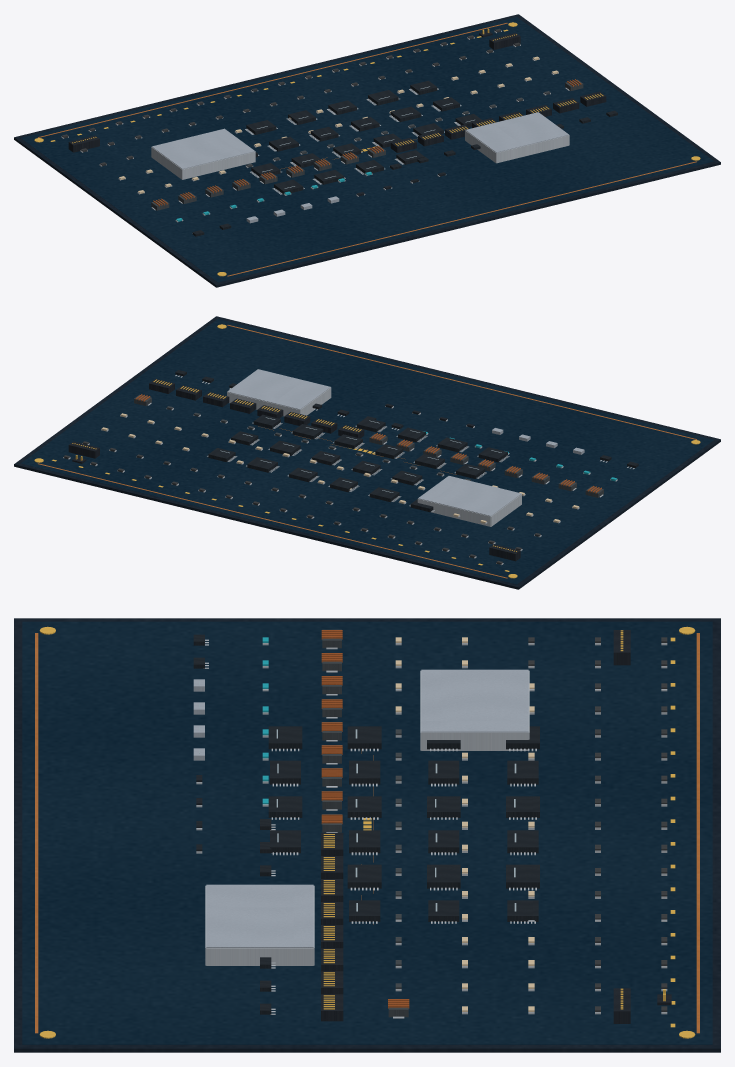
File: 191_L112_AssembledReference.obj
3 renders of one model, top to bottom at view 1: azimuth 30°, elevation 25°; view 2: azimuth 150°, elevation 25°; view 3: azimuth 270°, elevation 25°, orthographic. The views are drawn at different scales.
Parts seen in each view (by area): view 1: Part001__PSMAT__Soldermask_Midnight, Part000__PSMAT__PCB_Graphite, Part899__PSMAT__Aluminum_Brush, Part904__PSMAT__Aluminum_Brush, Part903__PSMAT__Tin_Solder, Part908__PSMAT__Tin_Solder, Part003__PSMAT__Copper_Exposed, Part002__PSMAT__Copper_Exposed; view 2: Part001__PSMAT__Soldermask_Midnight, Part000__PSMAT__PCB_Graphite, Part904__PSMAT__Aluminum_Brush, Part899__PSMAT__Aluminum_Brush, Part002__PSMAT__Copper_Exposed, Part003__PSMAT__Copper_Exposed, Part907__PSMAT__Tin_Solder; view 3: Part001__PSMAT__Soldermask_Midnight, Part000__PSMAT__PCB_Graphite, Part899__PSMAT__Aluminum_Brush, Part904__PSMAT__Aluminum_Brush, Part901__PSMAT__Tin_Solder, Part002__PSMAT__Copper_Exposed, Part003__PSMAT__Copper_Exposed, Part906__PSMAT__Tin_Solder, Part314__PSMAT__IC_Epoxy, Part206__PSMAT__IC_Epoxy, Part098__PSMAT__IC_Epoxy, Part242__PSMAT__IC_Epoxy (+16 smaller).
Part boxes in pixels (x1,y1,x2,y2): Part001__PSMAT__Soldermask_Midnight: [21, 17, 713, 282]; Part000__PSMAT__PCB_Graphite: [14, 14, 720, 287]; Part899__PSMAT__Aluminum_Brush: [465, 112, 568, 152]; Part904__PSMAT__Aluminum_Brush: [151, 128, 255, 169]; Part903__PSMAT__Tin_Solder: [496, 135, 569, 163]; Part908__PSMAT__Tin_Solder: [182, 151, 255, 179]; Part003__PSMAT__Copper_Exposed: [227, 161, 696, 276]; Part002__PSMAT__Copper_Exposed: [38, 23, 507, 137]; Part001__PSMAT__Soldermask_Midnight: [21, 319, 713, 584]; Part000__PSMAT__PCB_Graphite: [14, 316, 720, 589]; Part904__PSMAT__Aluminum_Brush: [418, 476, 521, 516]; Part899__PSMAT__Aluminum_Brush: [227, 369, 330, 409]; Part002__PSMAT__Copper_Exposed: [38, 463, 507, 578]; Part003__PSMAT__Copper_Exposed: [227, 325, 696, 439]; Part907__PSMAT__Tin_Solder: [418, 499, 490, 526]; Part001__PSMAT__Soldermask_Midnight: [22, 621, 712, 1044]; Part000__PSMAT__PCB_Graphite: [14, 618, 720, 1052]; Part899__PSMAT__Aluminum_Brush: [206, 884, 313, 947]; Part904__PSMAT__Aluminum_Brush: [421, 669, 528, 732]; Part901__PSMAT__Tin_Solder: [206, 948, 313, 965]; Part002__PSMAT__Copper_Exposed: [696, 633, 699, 1033]; Part003__PSMAT__Copper_Exposed: [35, 633, 38, 1033]; Part906__PSMAT__Tin_Solder: [421, 732, 528, 750]; Part314__PSMAT__IC_Epoxy: [347, 864, 381, 888]; Part206__PSMAT__IC_Epoxy: [427, 864, 460, 888]; Part098__PSMAT__IC_Epoxy: [506, 864, 539, 888]; Part242__PSMAT__IC_Epoxy: [347, 726, 381, 749].
Bounding box in the file's own units: 0.36 × 0.00912 × 0.25.
14 materials, 14 textured.
